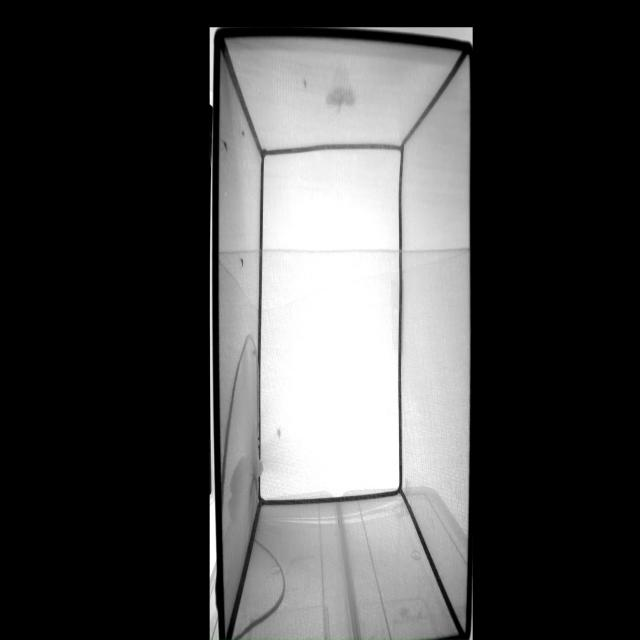Mosquito: (222, 135, 230, 157), (302, 75, 311, 93), (237, 256, 247, 269), (276, 422, 282, 442), (240, 127, 246, 143), (276, 426, 282, 441), (239, 255, 246, 266), (252, 349, 258, 359)
